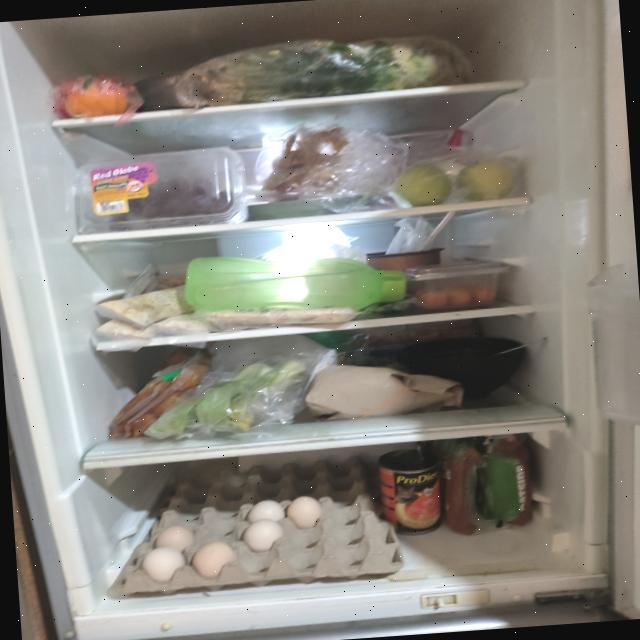apple: (454, 157, 516, 202), (394, 162, 454, 208)
egg: (116, 452, 405, 597)
orange: (62, 76, 131, 118)
pakchoy: (150, 358, 312, 438)
tempeh: (92, 282, 214, 342), (208, 299, 360, 331)
